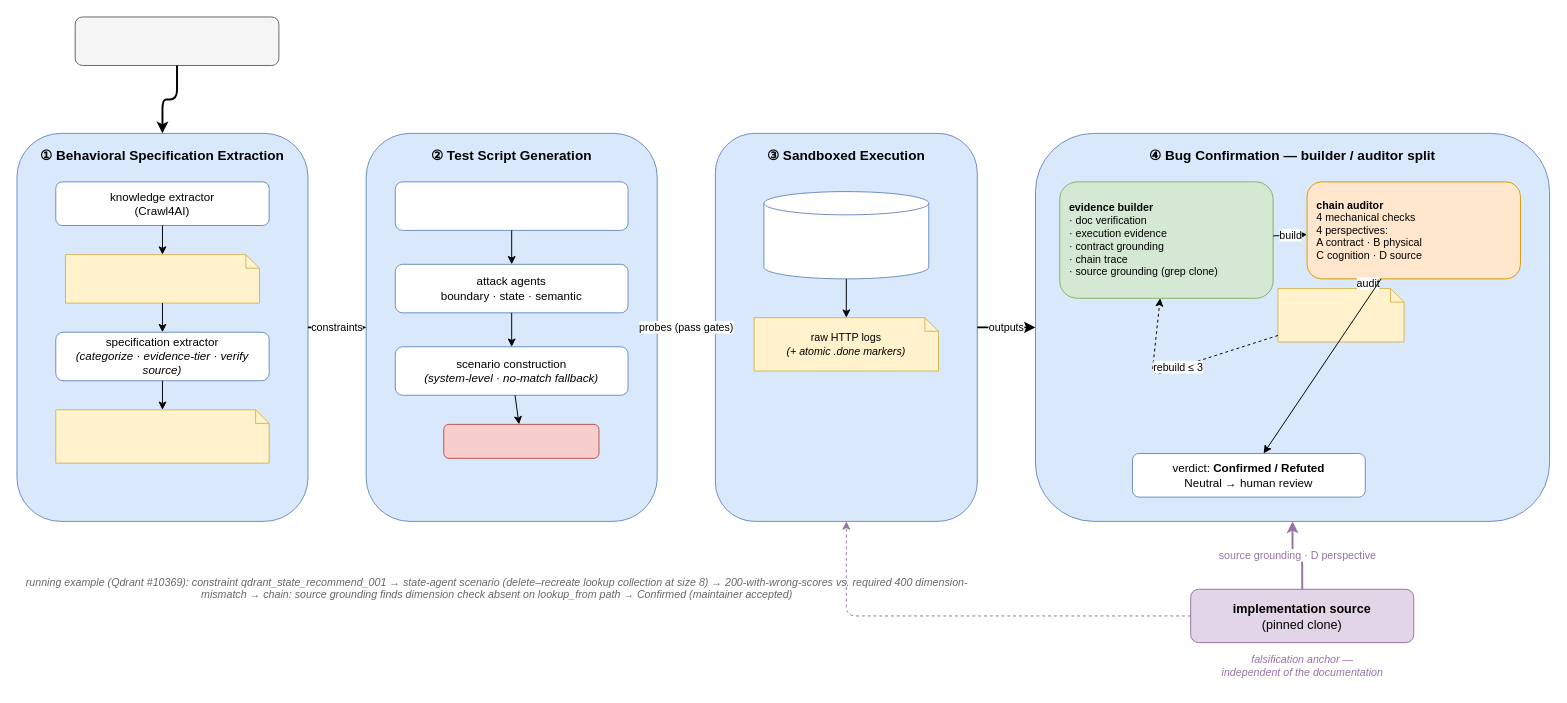
Some shapes in this 1567 by 703 pixel diagram are drawn without their labels. Here are the shapes that lost their labels. From the top down, the centre of each, then its label:
the point at 176,40: API documentation (natural-language prose)
the point at 511,205: strategy registry (pre-bound: trigger → strategy)
the point at 846,235: Docker-pinned VDBMS (target @ version)
the point at 162,278: knowledge.json (coverage + version checks)
the point at 1340,315: evidence_chain.json (five sections)
the point at 162,436: specifications.json (typed · tiered · source-verified · level)
the point at 521,440: 5 generation gates
